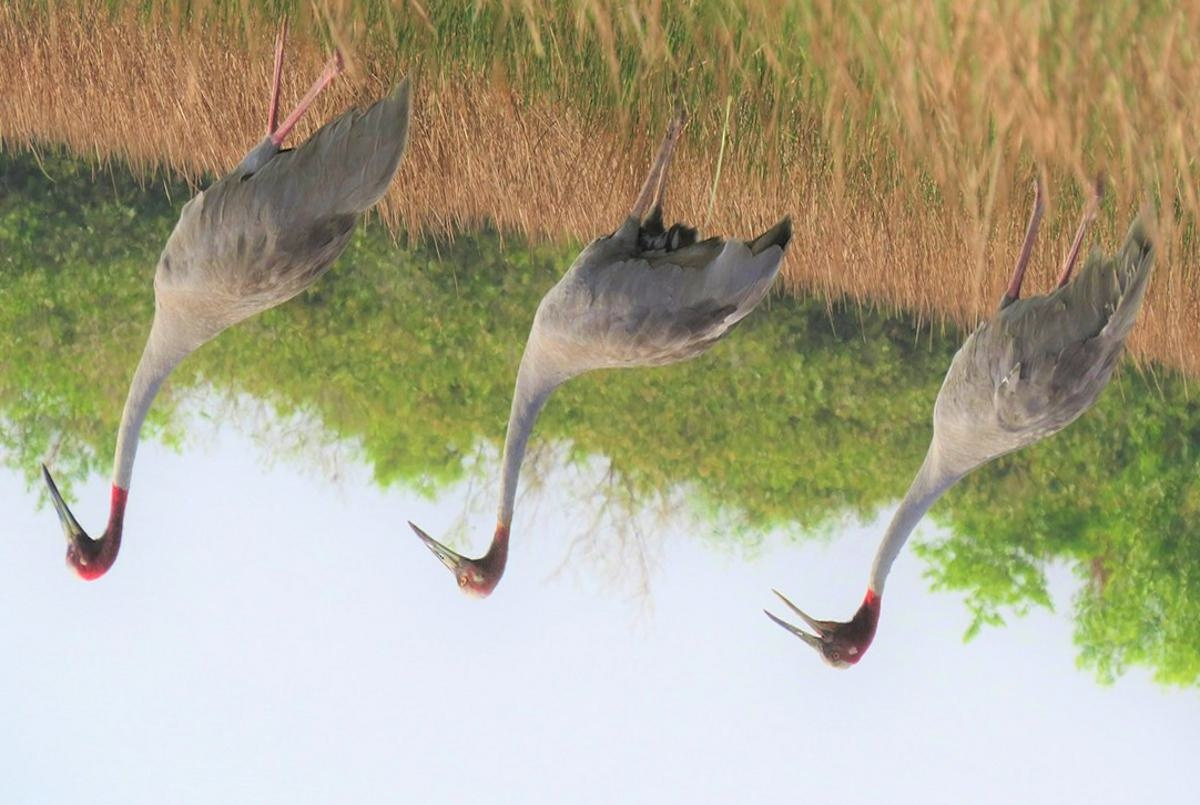crane: (395, 92, 858, 615), (20, 40, 419, 596), (767, 154, 1173, 696)
